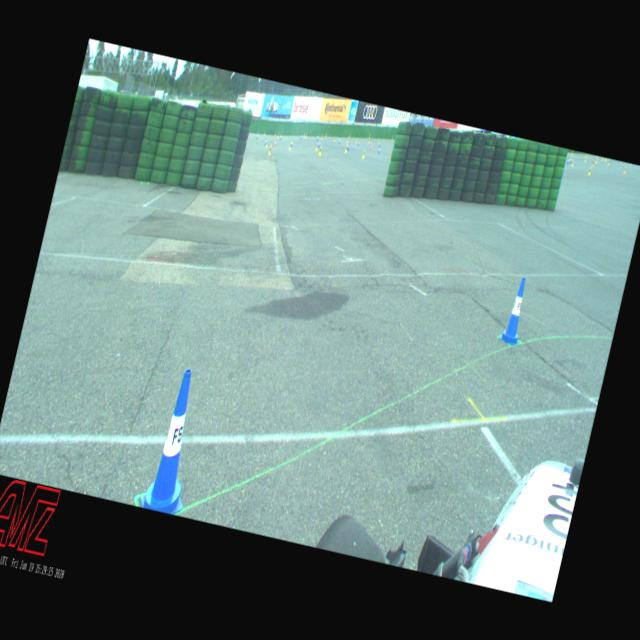blue_cone: (138, 364, 213, 516), (498, 274, 532, 346), (346, 142, 351, 151), (255, 130, 259, 139), (317, 139, 321, 148), (263, 138, 267, 146), (568, 156, 572, 163), (338, 137, 341, 145), (566, 156, 569, 164), (356, 139, 359, 147), (290, 140, 293, 148), (368, 140, 372, 146), (378, 140, 381, 147), (279, 134, 282, 140), (378, 146, 380, 154), (316, 134, 318, 141), (300, 132, 302, 139)
orange_cone: (369, 142, 372, 150), (274, 138, 276, 147), (274, 132, 276, 139)
yellow_cone: (267, 144, 272, 156), (361, 148, 366, 159), (343, 144, 348, 154), (318, 145, 322, 156), (314, 141, 318, 152), (288, 140, 292, 150), (264, 138, 268, 148), (588, 167, 592, 176), (622, 165, 626, 174), (332, 135, 337, 142), (354, 136, 358, 144), (570, 159, 574, 167), (594, 157, 598, 164), (304, 131, 308, 138), (302, 130, 306, 137), (607, 158, 610, 166), (570, 150, 574, 156), (346, 136, 349, 144), (277, 132, 280, 139), (321, 133, 324, 140), (377, 137, 380, 144), (391, 134, 394, 140), (348, 132, 351, 138), (368, 137, 370, 144), (592, 160, 594, 167), (264, 130, 266, 136), (584, 156, 586, 162), (601, 157, 603, 161)
